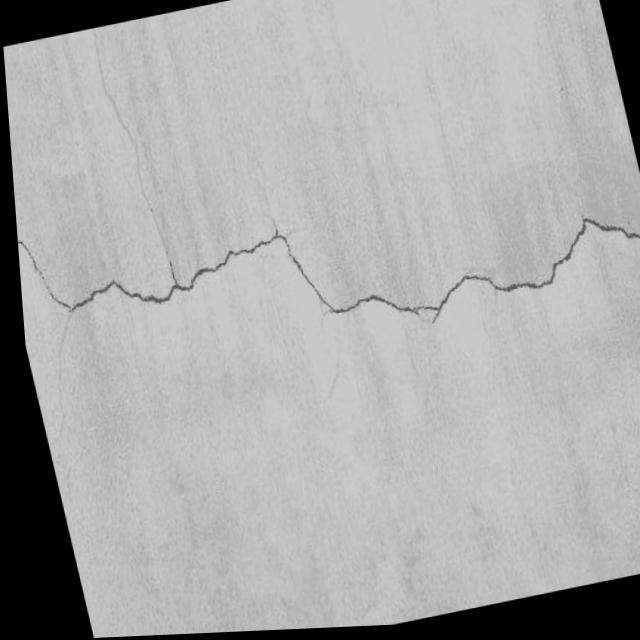Crack: (318, 203, 640, 350), (12, 204, 180, 342), (160, 219, 336, 346)
